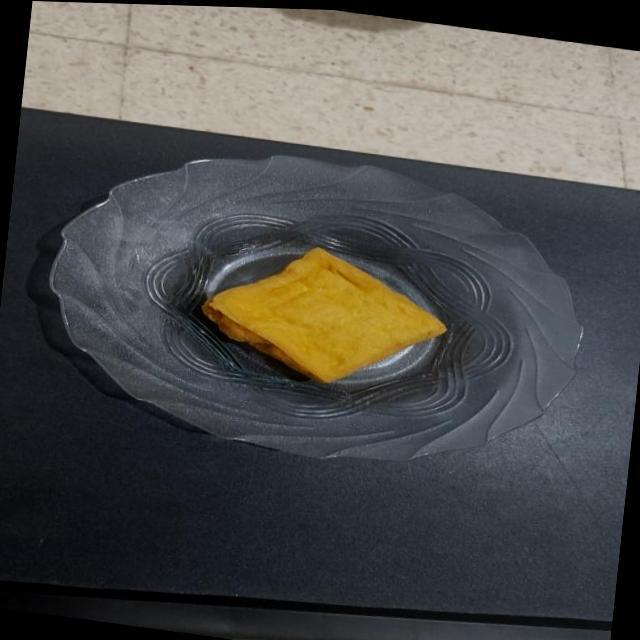tahu_goreng: (202, 248, 446, 382)
